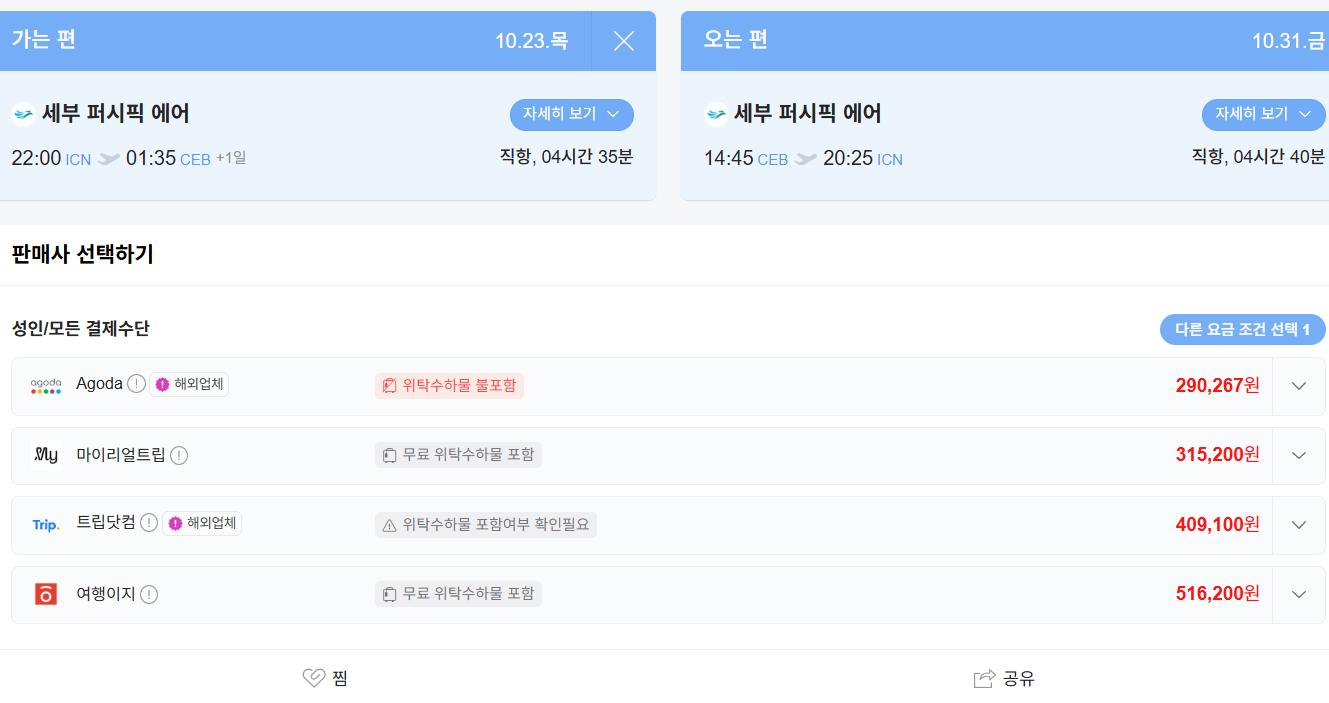button: (861, 646, 1189, 703), (166, 650, 477, 703), (592, 10, 655, 70)
checkbox: (1158, 427, 1329, 486), (1156, 356, 1327, 414), (1158, 562, 1329, 620), (1158, 494, 1329, 552), (1204, 97, 1325, 133), (507, 101, 639, 132)
